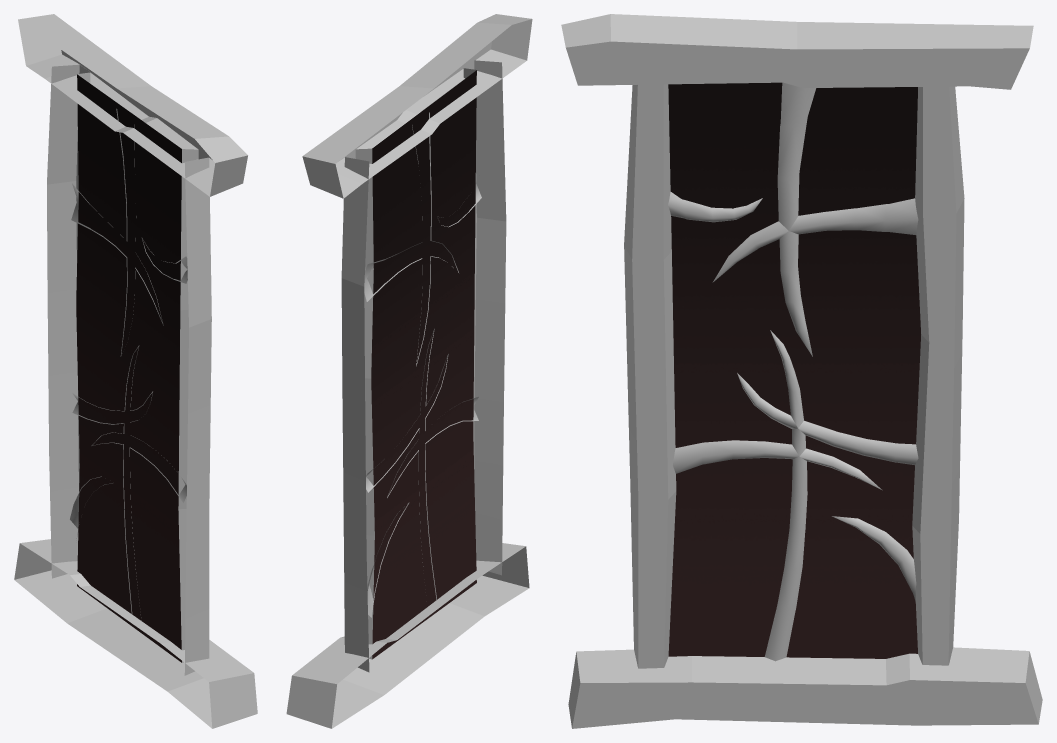
Rendered from lower_city_window_10_1.fbx.
3 views of the same model, side by side, from view 1: azimuth 30°, elevation 25°; view 2: azimuth 150°, elevation 25°; view 3: azimuth 270°, elevation 25° (orthographic). The views are drawn at different scales.
Visible parts, largest first — view 1: lower_city_window_10_1; view 2: lower_city_window_10_1; view 3: lower_city_window_10_1.
Boxes of the visible parts, x1,y1,x2,y2 form: lower_city_window_10_1: (14, 14, 257, 728); lower_city_window_10_1: (286, 14, 532, 728); lower_city_window_10_1: (561, 14, 1042, 728).
Bounding box in the file's own units: 0.1409 × 1.66 × 1.04.
